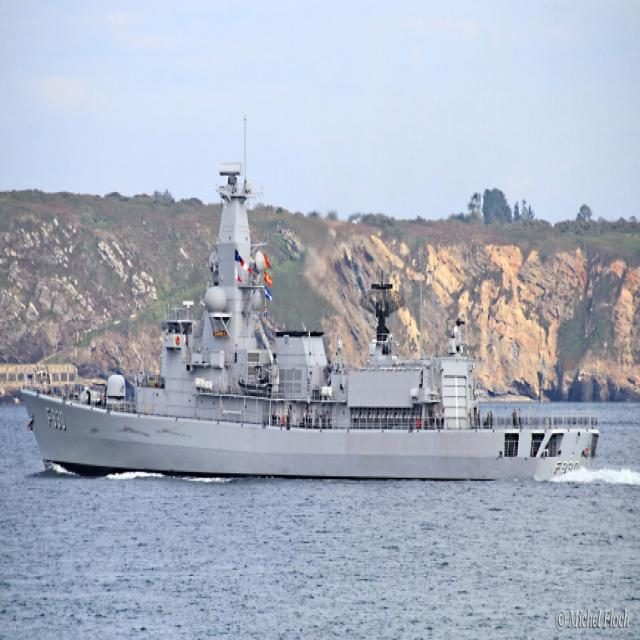Fragata: (17, 162, 604, 489)
